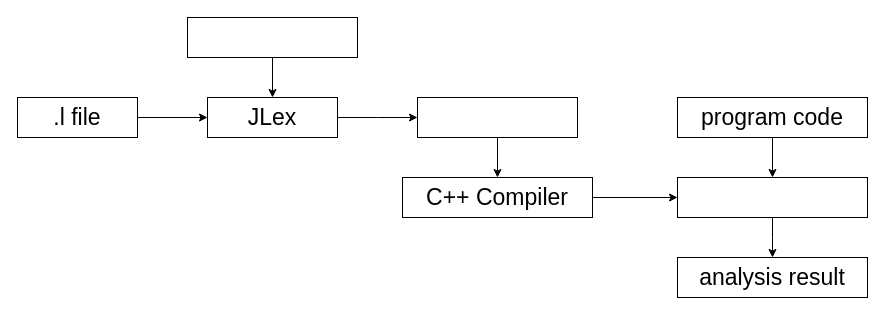
Image size: 885x315. Some labels were removed from this diagram. Here are the shapes that lost their labels. From the top down, the box of each, then its label:
(186, 16, 358, 58): source.cpp
(416, 96, 578, 138): lex.yy.cpp
(676, 176, 868, 218): lexical analyzer
